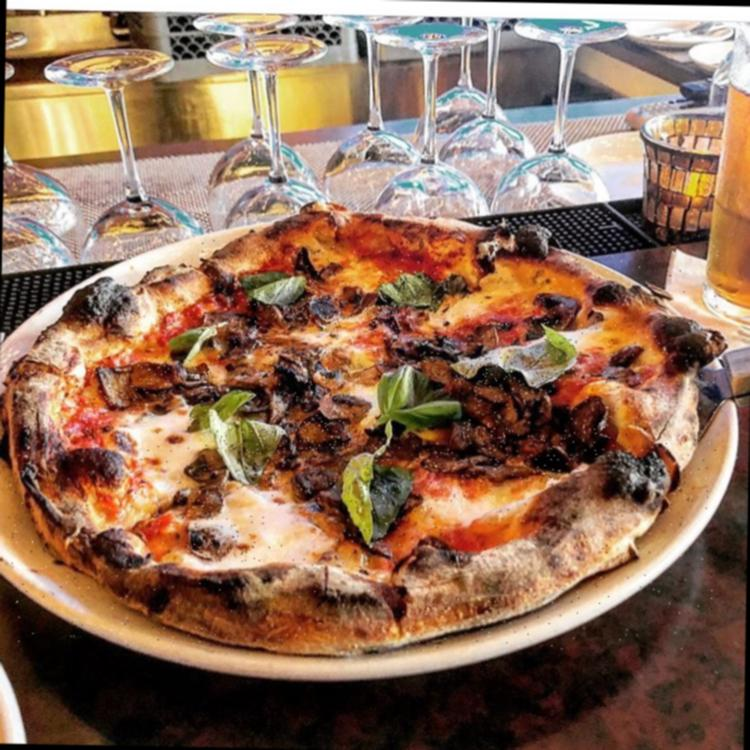Basil: (447, 322, 582, 386), (341, 445, 419, 546), (374, 362, 464, 444), (216, 416, 289, 488), (166, 318, 236, 370), (188, 385, 258, 434), (377, 271, 453, 316), (238, 271, 318, 310)
Mushroom: (183, 521, 256, 564), (570, 396, 614, 461), (463, 394, 513, 450), (290, 410, 358, 450), (129, 358, 195, 398), (531, 286, 581, 336), (477, 455, 554, 487), (93, 362, 136, 417), (186, 449, 240, 492), (174, 482, 232, 520), (420, 449, 490, 478), (362, 308, 404, 356), (530, 434, 576, 476), (606, 337, 645, 386), (393, 336, 472, 360), (291, 462, 340, 500), (509, 370, 552, 413), (324, 378, 374, 414), (472, 366, 514, 408), (471, 431, 511, 474), (274, 346, 314, 388), (301, 295, 343, 332), (311, 391, 354, 427), (304, 358, 348, 390), (266, 389, 300, 430), (231, 320, 266, 356), (187, 378, 234, 403), (296, 379, 330, 409), (532, 396, 558, 433), (274, 445, 306, 475), (470, 326, 503, 354), (238, 394, 275, 418), (232, 368, 276, 387), (203, 312, 248, 328), (272, 308, 310, 326), (184, 370, 215, 392), (213, 334, 235, 362), (345, 282, 372, 304)
Pizza: (8, 202, 720, 657)
